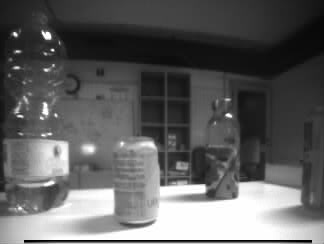Bottle: (3, 8, 70, 216), (204, 97, 240, 201)
Tin can: (113, 136, 161, 227)
